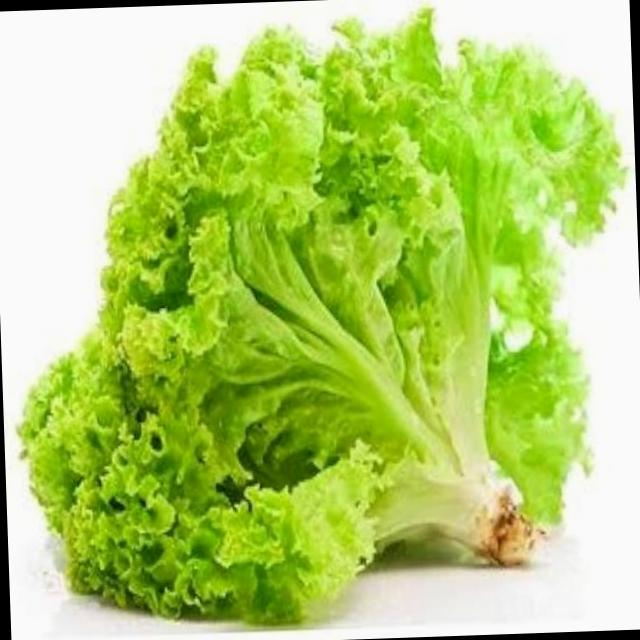Lettuce-Ready-to-Harvest: (14, 8, 627, 629)
